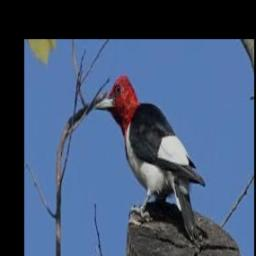Woodpecker: (94, 75, 205, 240)
